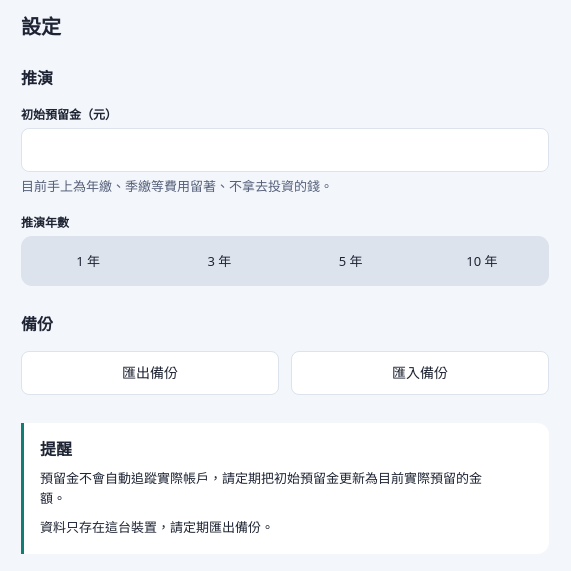
Scenario: 設定頁 › 初始預留金驗證
The image size is (571, 571).
Type "-5" into the field labelled "初始預留金（元）".
click(285, 150); type("-5")  # box [21, 128, 549, 172]
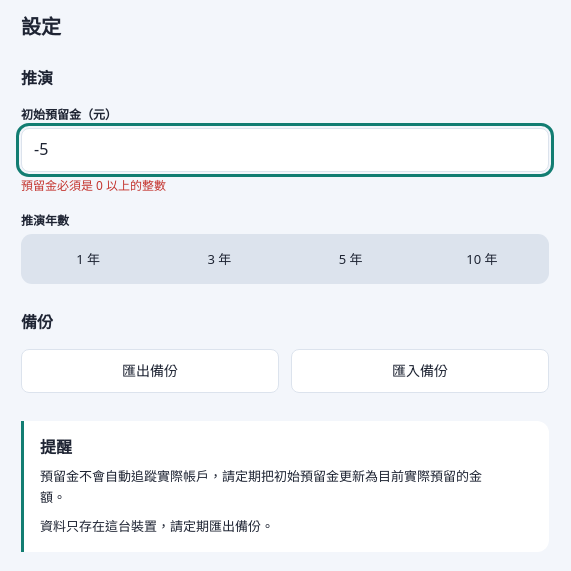
Expected: the text "預留金必須是 0 以上的整數" is shown, [21, 177, 166, 194]
